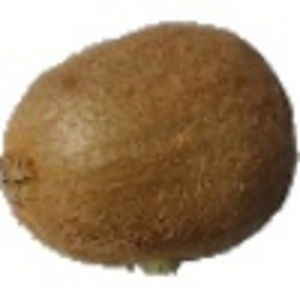kiwi: (1, 21, 300, 279)
